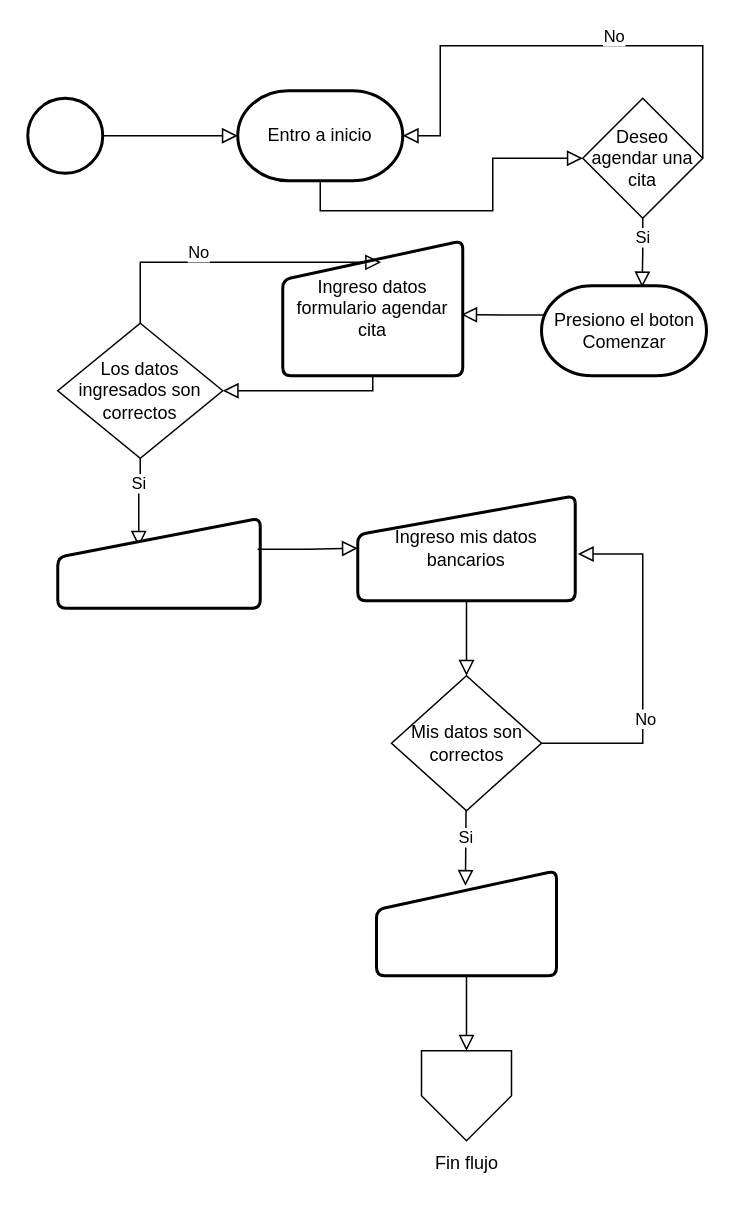
Image size: 744x1211. Some labels were removed from this diagram. The shapes that lost their labels are listed below. From the top down, each one's centre as x and y in pixels, then its label:
point 65,135: Inicio
point 158,562: Ingreso tipo de pago
point 465,922: Pago realizado correctamente
